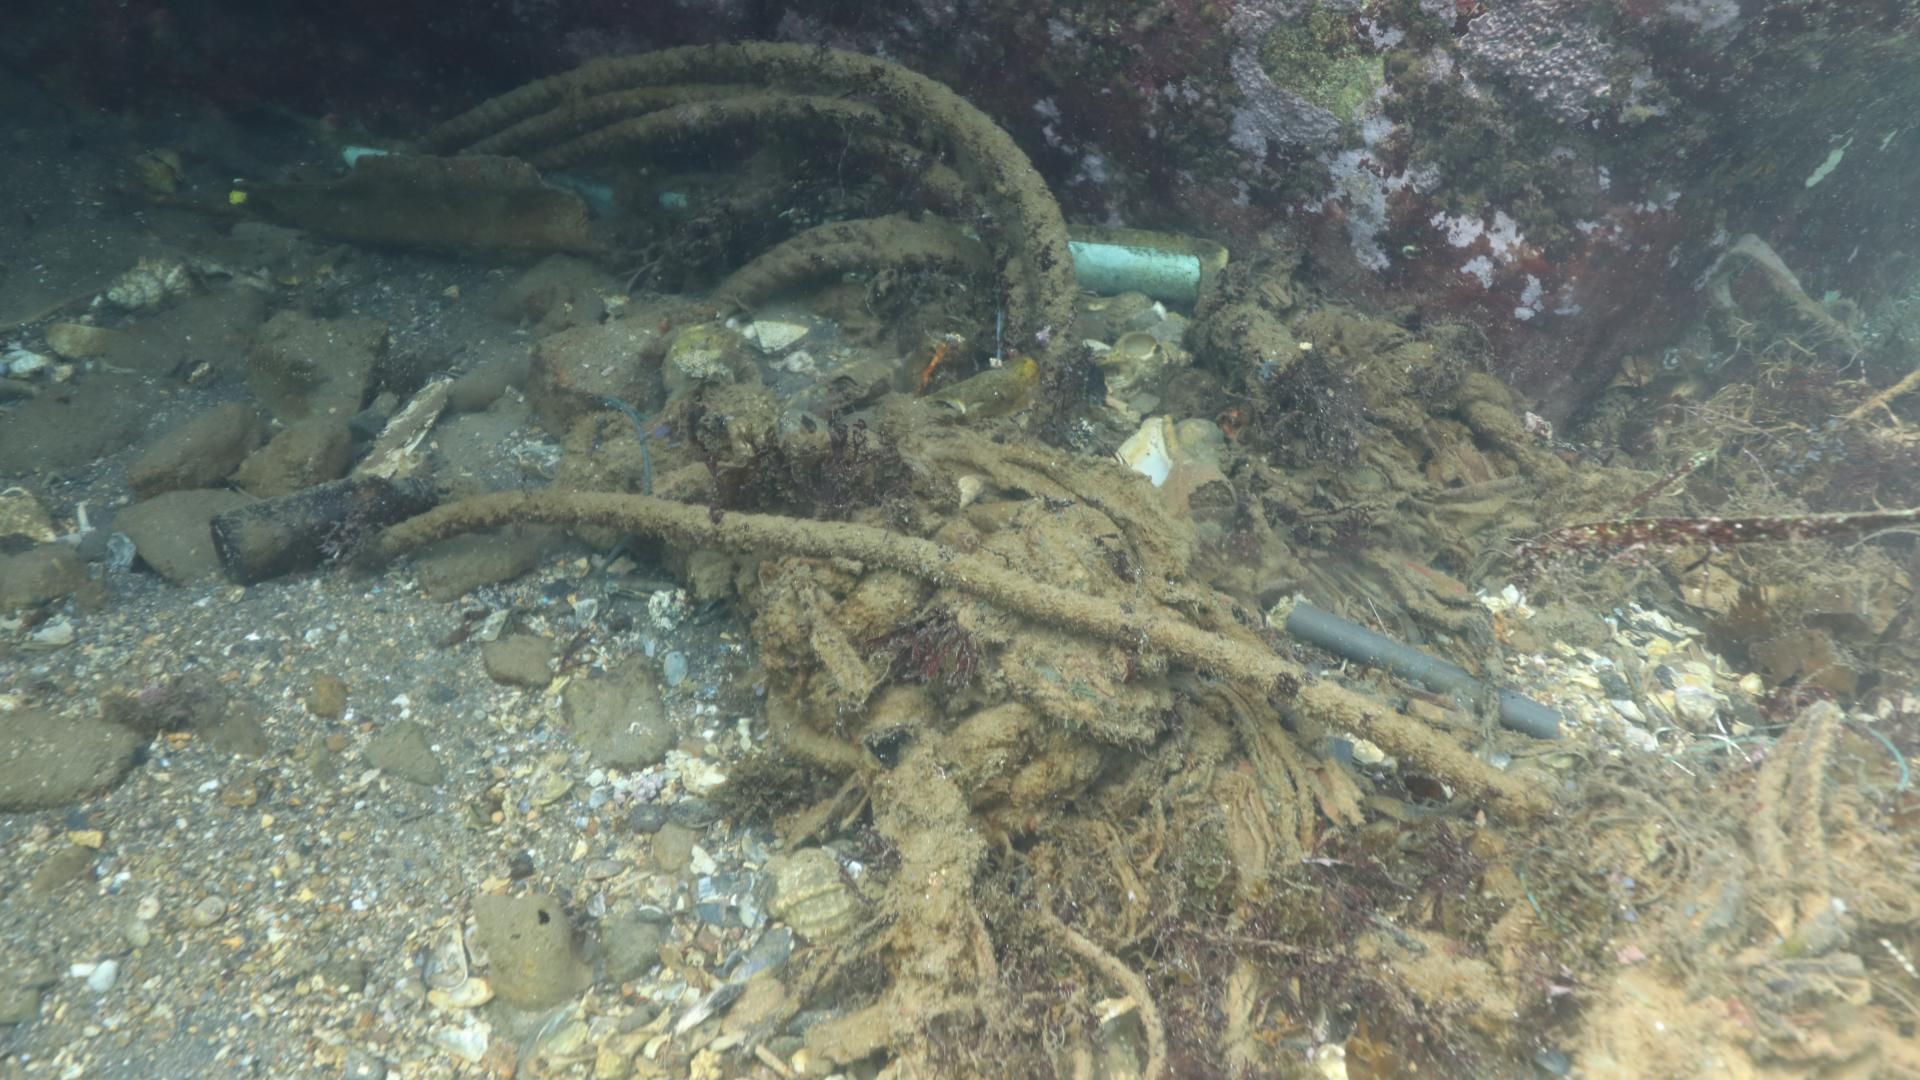bundle of ropes: (404, 40, 1077, 361)
rope: (377, 487, 1548, 819)
